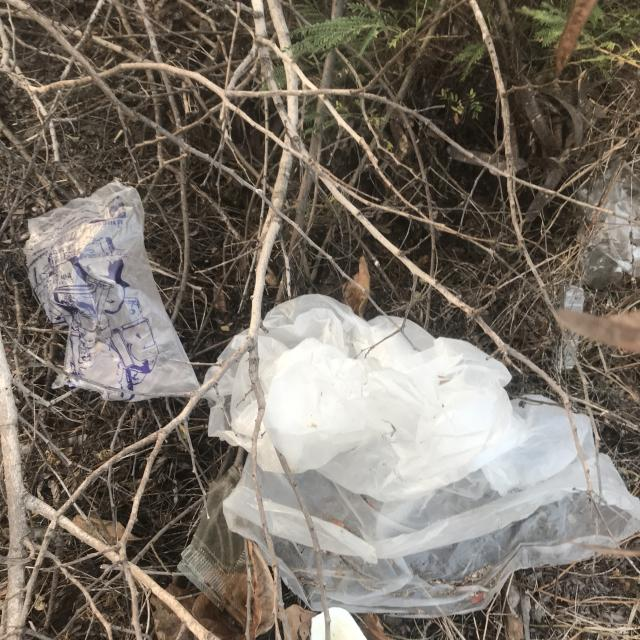Single-layer Plastic: (208, 295, 640, 618), (25, 181, 199, 400)
